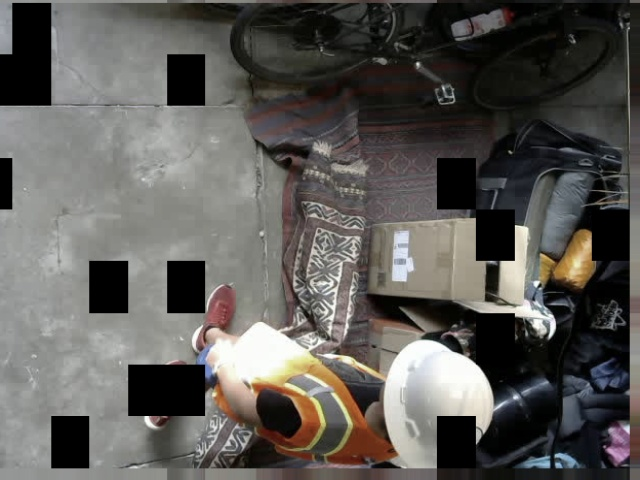one: (437, 422, 483, 458)
